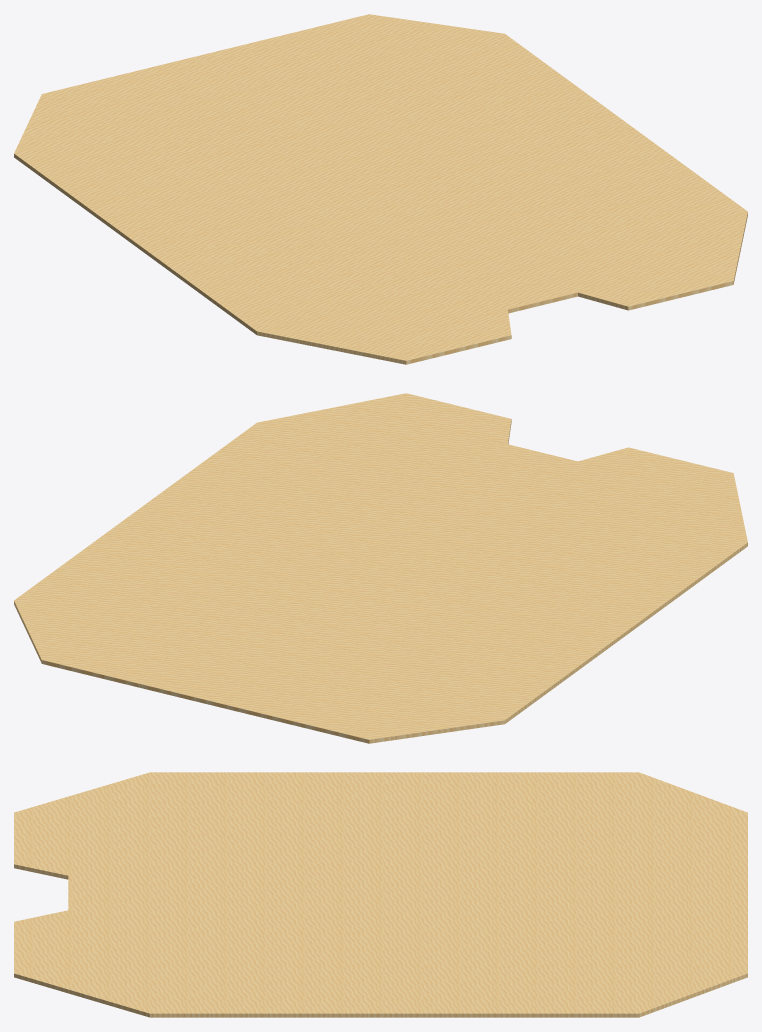
File: seabed-29-xP1wWSk6.glb
The picture shows the model from 3 angles, top to bottom: view 1: azimuth 30°, elevation 25°; view 2: azimuth 150°, elevation 25°; view 3: azimuth 270°, elevation 25°; orthographic projection.
Visible parts, largest first — view 1: SW_SandShelf; view 2: SW_SandShelf; view 3: SW_SandShelf.
Part boxes in pixels (bbox=[...]): SW_SandShelf: bbox=[14, 14, 747, 364]; SW_SandShelf: bbox=[14, 393, 747, 743]; SW_SandShelf: bbox=[14, 772, 747, 1017].
Size of what is drawn, in the model's own units: 42 by 0.32 by 54.
1 material, 1 textured.
